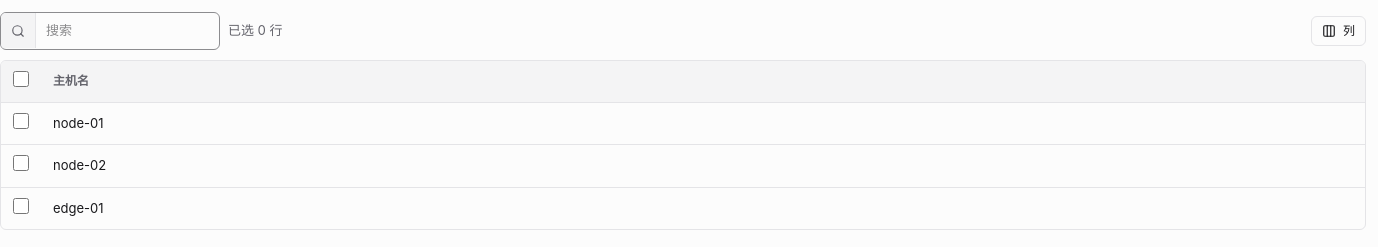
Test: DataTable 全选与半选 › 全选只作用于过滤后的可见行，过滤变化立即重算，隐藏的已选行保持选中
Click the checkbox named "选择 3".
click(21, 206)  # box [13, 198, 29, 214]
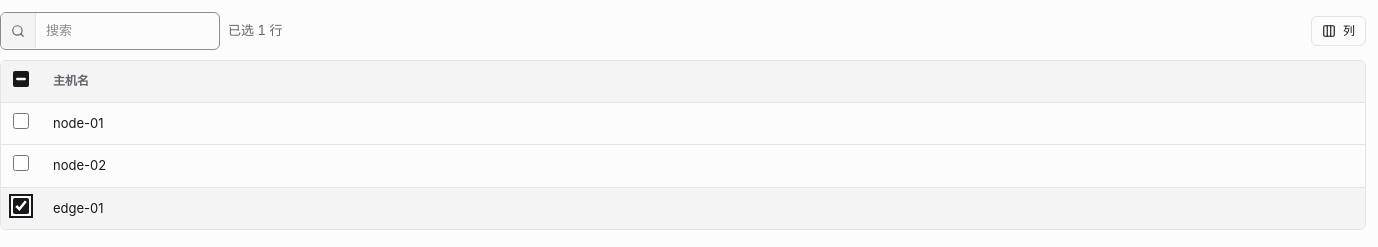
Now the text "已选 1 行" is shown, box [228, 21, 282, 40]
Type "node" into the search field named "搜索节点".
click(128, 31); type("node")  # box [36, 13, 219, 48]
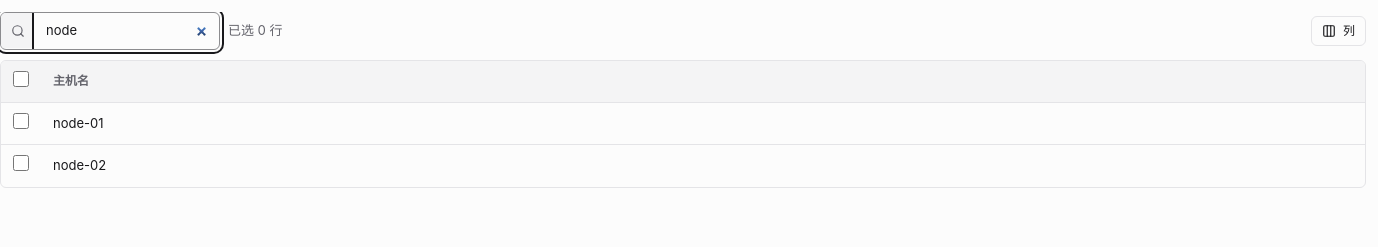
Now the text "已选 0 行" is shown, box [228, 21, 282, 40]
Click the checkbox named "全选可见行".
click(21, 78)  # box [13, 70, 29, 86]
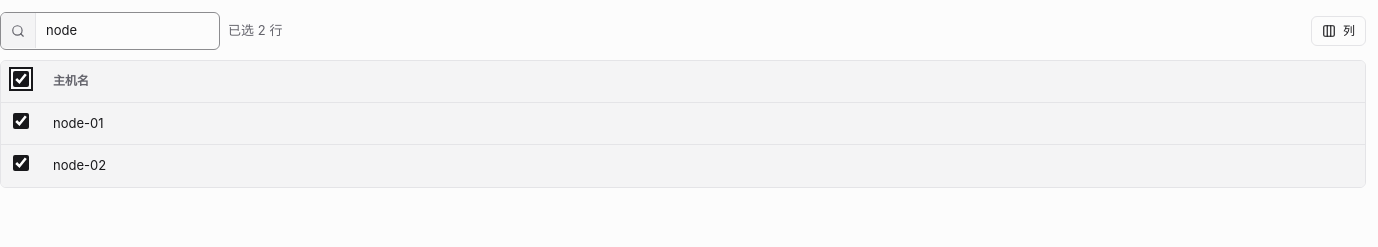
Now the checkbox named "全选可见行" is checked, box [13, 70, 29, 86]
Now the text "已选 2 行" is shown, box [228, 21, 282, 40]
Click the checkbox named "选择 2".
click(21, 163)  # box [13, 155, 29, 171]
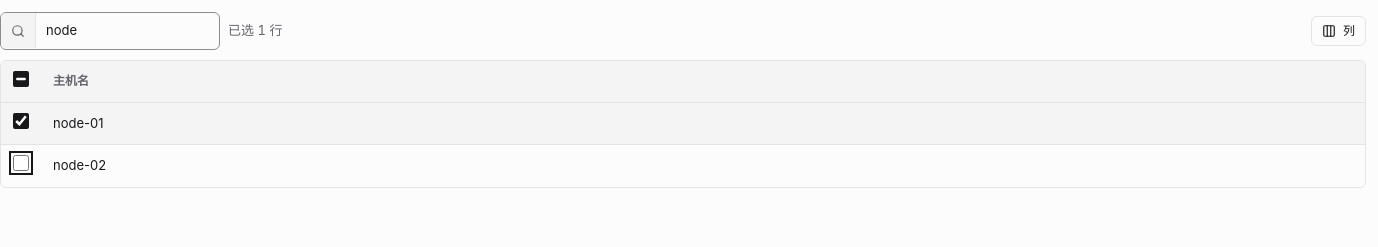
Clear the search field named "搜索节点" at (128, 31), box [36, 13, 219, 48]
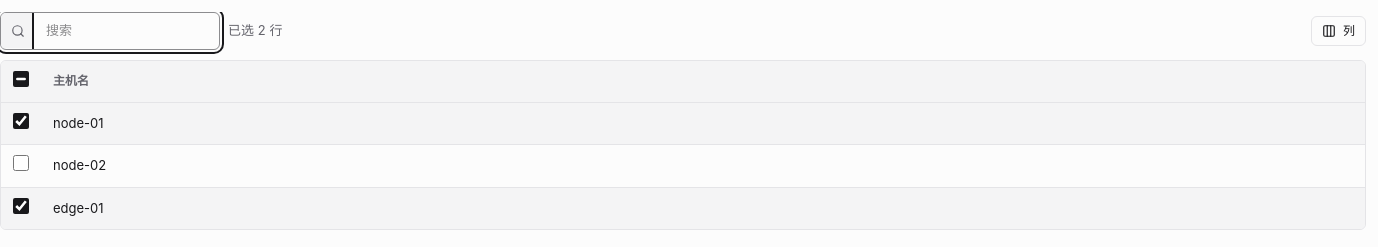
Now the text "已选 2 行" is shown, box [228, 21, 282, 40]
